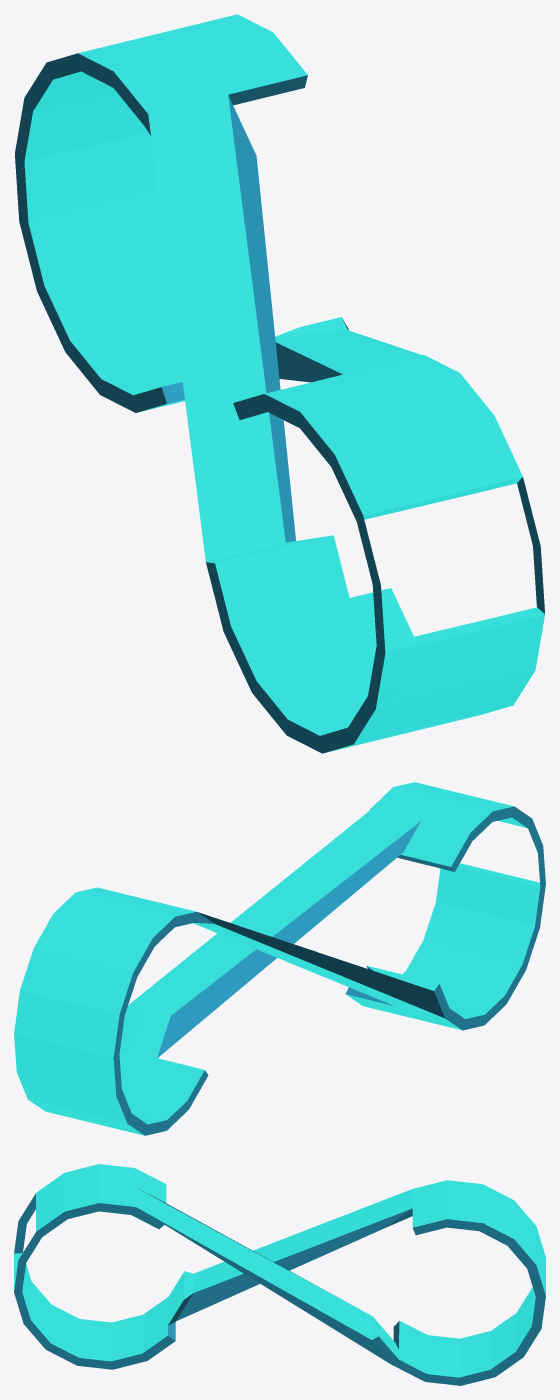
The model's file is infinito.glb.
3 views of the same model, one above another, from view 1: azimuth 30°, elevation 25°; view 2: azimuth 150°, elevation 25°; view 3: azimuth 270°, elevation 25° (orthographic). The views are drawn at different scales.
Visible parts, largest first — view 1: Cubo; view 2: Cubo; view 3: Cubo.
Boxes of the visible parts, x1,y1,x2,y2 form: Cubo: [15, 14, 544, 753]; Cubo: [14, 782, 545, 1135]; Cubo: [14, 1164, 545, 1385].
Bounding box in the file's own units: 2.01 × 2.27 × 5.77.
